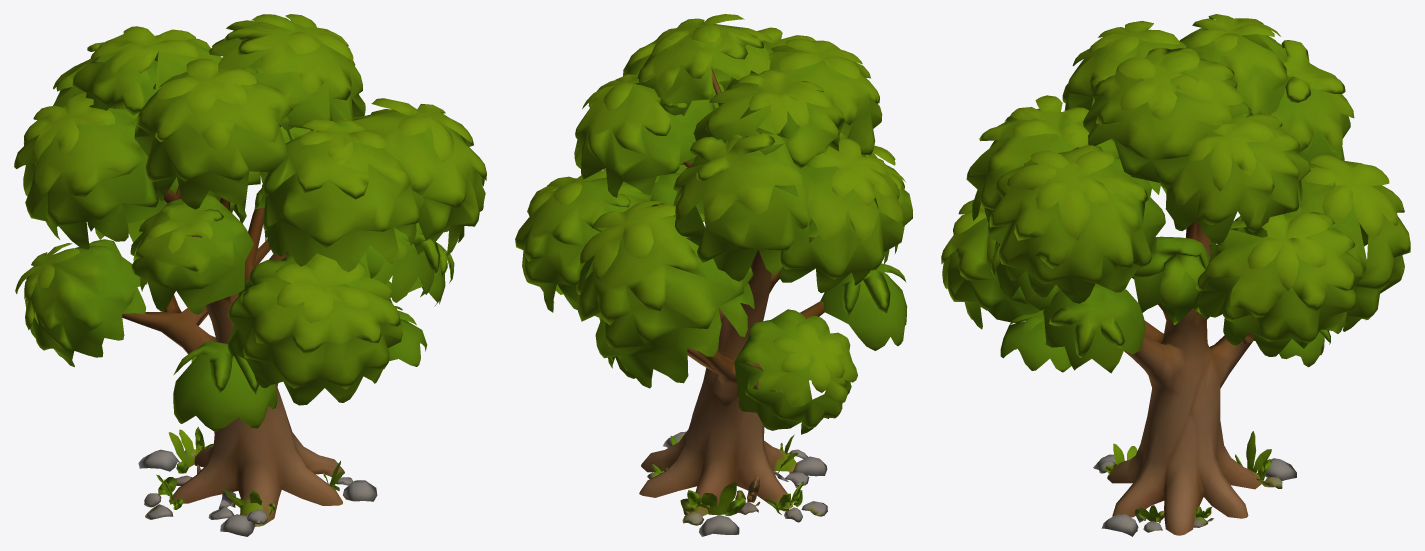
Rendered from tripo-tree.glb.
The picture shows the model from 3 angles, left to right: view 1: azimuth 30°, elevation 25°; view 2: azimuth 150°, elevation 25°; view 3: azimuth 270°, elevation 25°; orthographic projection. The views are drawn at different scales.
Parts seen in each view (by area): view 1: garden-tree; view 2: garden-tree; view 3: garden-tree.
Part boxes in pixels (box(x1,y1,x2,y2)): garden-tree: box(14, 14, 486, 536); garden-tree: box(515, 14, 912, 536); garden-tree: box(941, 14, 1410, 536).
Size of the model in its own units: 3.04 by 3.8 by 3.59.
1 material, 1 textured.
